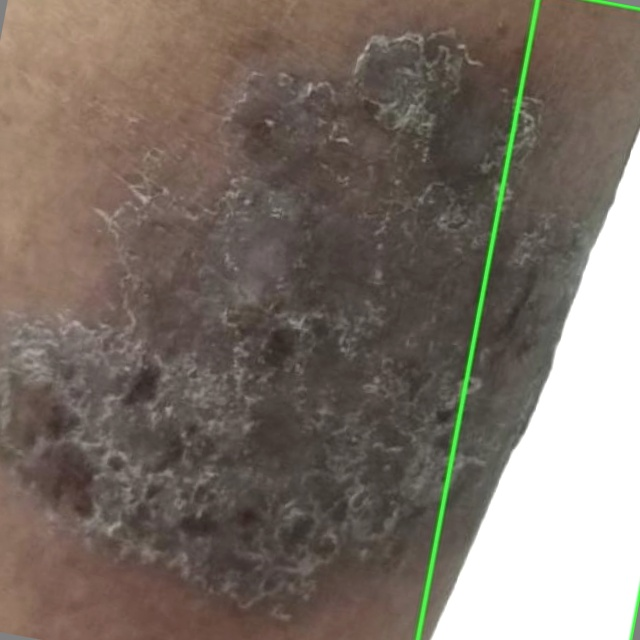Eczema: (417, 0, 639, 639)
